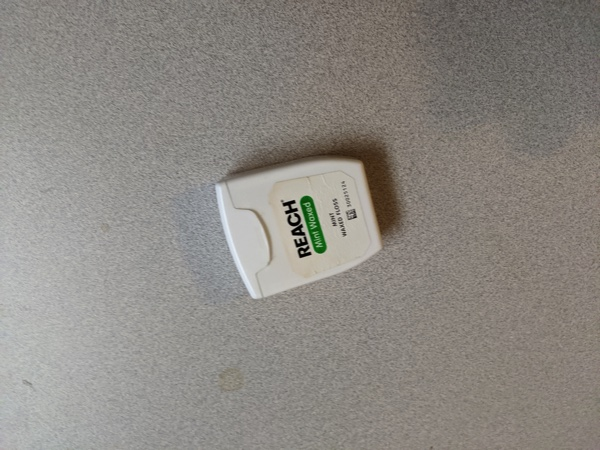plastic: (189, 139, 399, 315)
